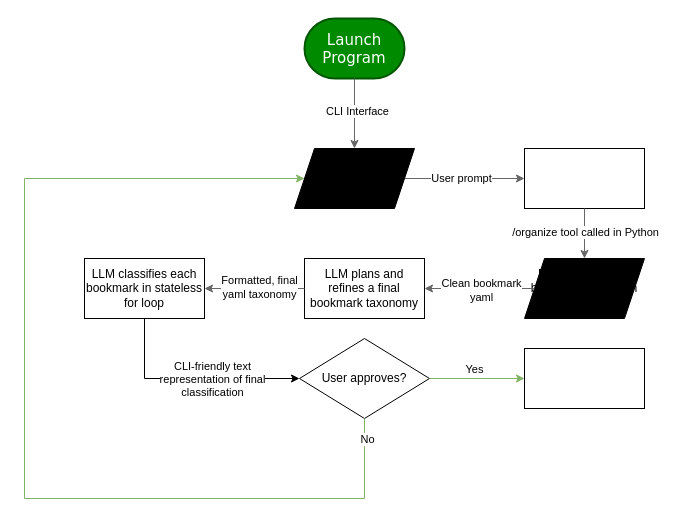
Image size: 676x524. Some labels were removed from this diagram. The centre of each missing label's shape, as x and y in pixels:
Generate new formatted bookmark export file and output file directory: point (584, 378)
LLM calls /organize command: point (584, 178)
User prompts LLM to organize bookmarks: point (354, 178)
